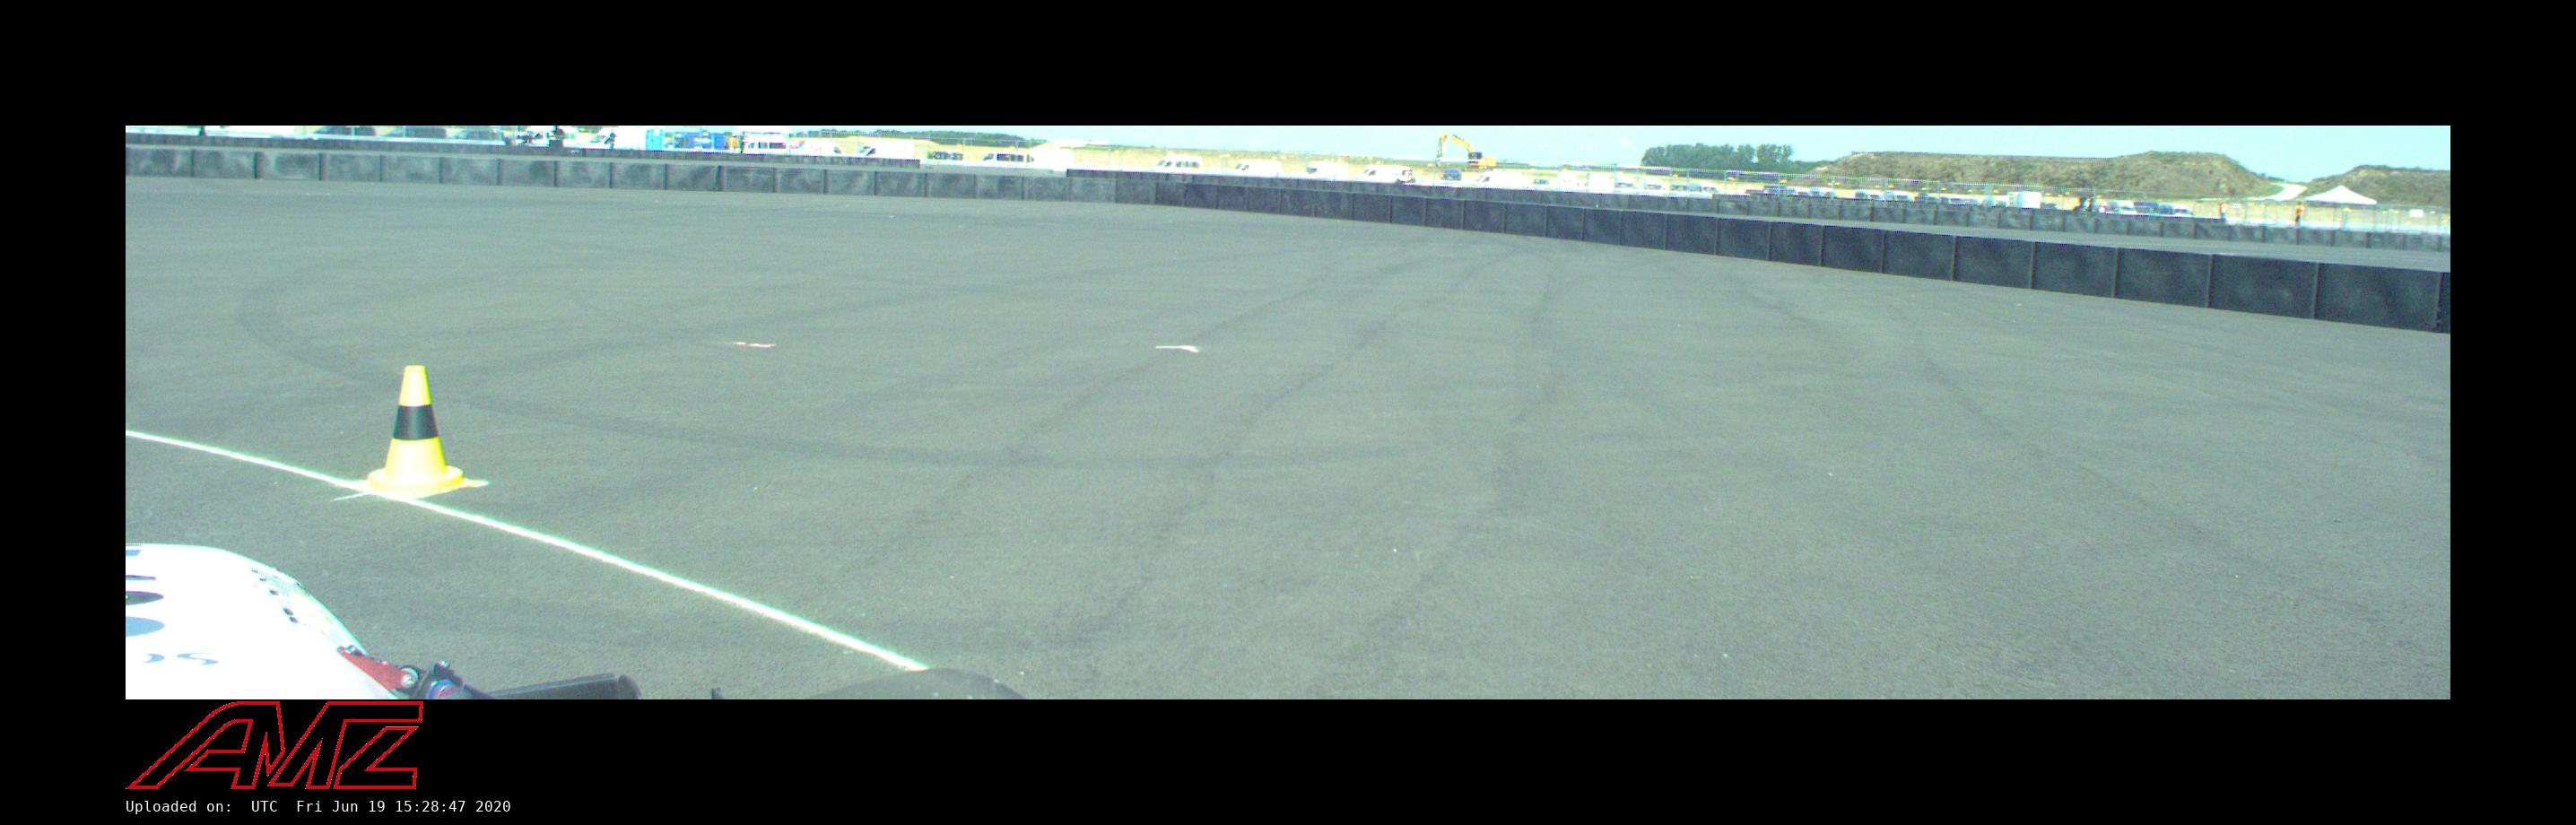yellow_cone: (360, 366, 471, 495)
